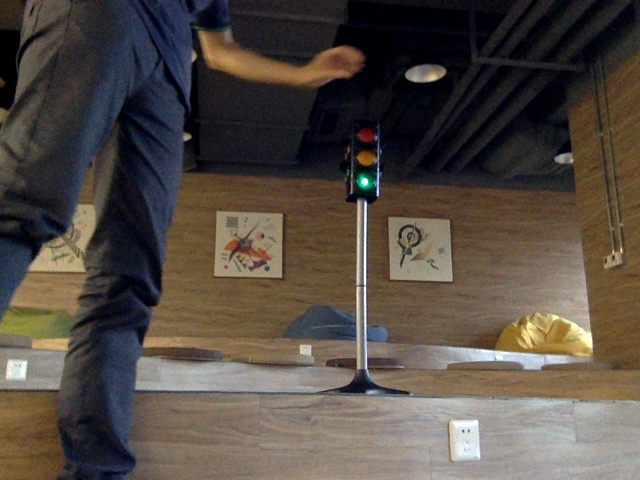green: (349, 127, 378, 193)
